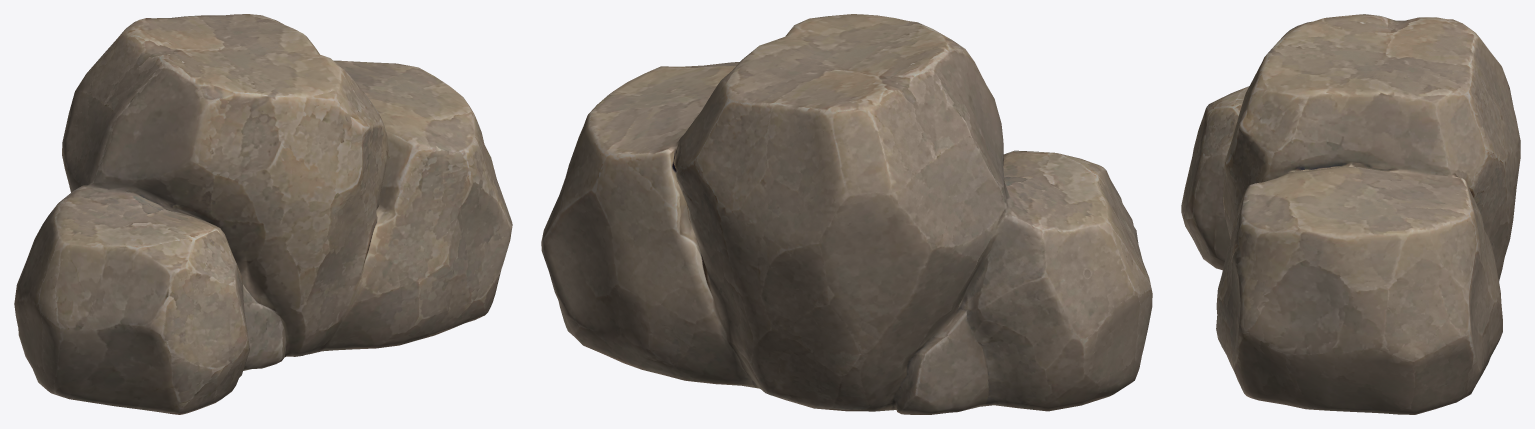
File: stone_outcrop.glb
3 renders of one model, left to right at view 1: azimuth 30°, elevation 25°; view 2: azimuth 150°, elevation 25°; view 3: azimuth 270°, elevation 25°, orthographic. The views are drawn at different scales.
Parts seen in each view (by area): view 1: tripo_node_9b16c7ad; view 2: tripo_node_9b16c7ad; view 3: tripo_node_9b16c7ad.
Boxes of the visible parts, left/top/right/bottom form: tripo_node_9b16c7ad: left=14, top=14, right=512, bottom=414; tripo_node_9b16c7ad: left=541, top=14, right=1152, bottom=414; tripo_node_9b16c7ad: left=1181, top=14, right=1520, bottom=414.
Bounding box in the file's own units: 97.31 × 53.89 × 62.67.
Materials: 1 (1 with a texture image).
